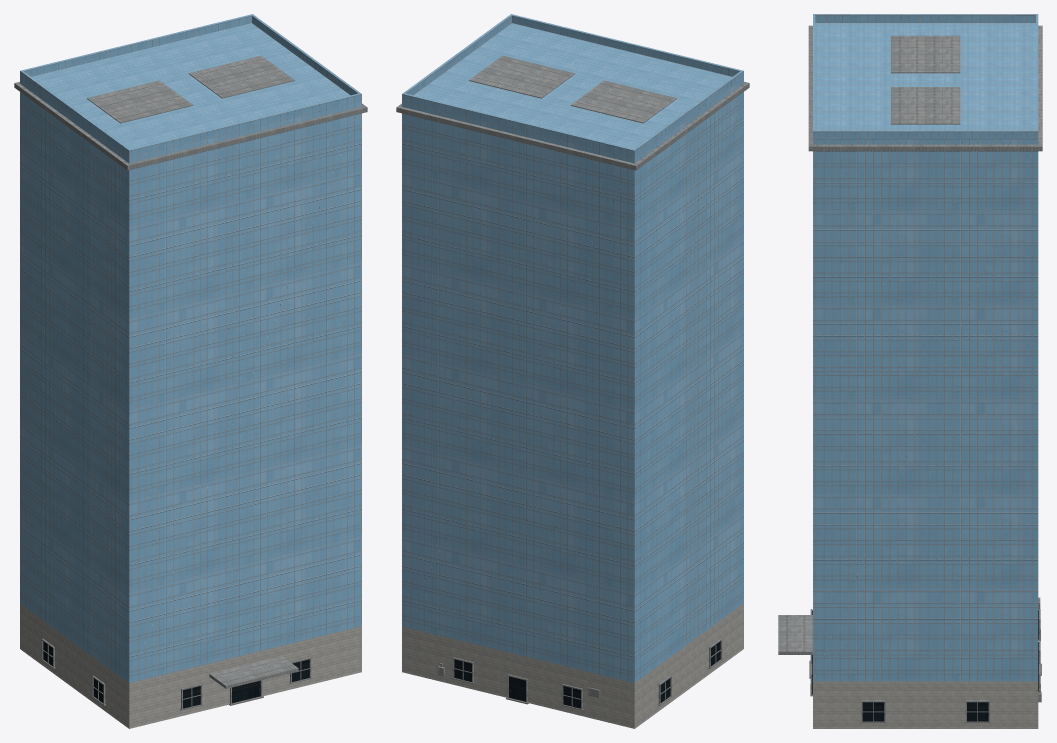
Rendered from cass-avenue-offices_lod0.gltf.
3 renders of one model, left to right at view 1: azimuth 30°, elevation 25°; view 2: azimuth 150°, elevation 25°; view 3: azimuth 270°, elevation 25°, orthographic. The views are drawn at different scales.
Parts seen in each view (by area): view 1: cass-avenue-offices_upper, cass-avenue-offices_base, cass-avenue-offices__cornice, cass-avenue-offices__solar_b, cass-avenue-offices__solar_a, cass-avenue-offices__parapet_front, cass-avenue-offices__parapet_back, cass-avenue-offices__canopy, cass-avenue-offices_fen_07-glass-curtain-blue_1_t, cass-avenue-offices__parapet_left, cass-avenue-offices__parapet_right, cass-avenue-offices_fen_14-steel-panel_0; view 2: cass-avenue-offices_upper, cass-avenue-offices_base, cass-avenue-offices__cornice, cass-avenue-offices__solar_b, cass-avenue-offices__solar_a, cass-avenue-offices__parapet_back, cass-avenue-offices__parapet_front, cass-avenue-offices_fen_07-glass-curtain-blue_1_t, cass-avenue-offices_fen_14-steel-panel_0, cass-avenue-offices__parapet_left, cass-avenue-offices__parapet_right; view 3: cass-avenue-offices_upper, cass-avenue-offices_base, cass-avenue-offices__cornice, cass-avenue-offices__solar_a, cass-avenue-offices__solar_b, cass-avenue-offices__parapet_right, cass-avenue-offices__parapet_left, cass-avenue-offices__canopy, cass-avenue-offices_fen_07-glass-curtain-blue_1_t, cass-avenue-offices_fen_14-steel-panel_0.
Boxes of the visible parts, left/top/right/bottom form: cass-avenue-offices_upper: left=20, top=23, right=361, bottom=683; cass-avenue-offices_base: left=20, top=603, right=361, bottom=728; cass-avenue-offices__cornice: left=14, top=81, right=367, bottom=170; cass-avenue-offices__solar_b: left=188, top=55, right=294, bottom=98; cass-avenue-offices__solar_a: left=87, top=80, right=193, bottom=123; cass-avenue-offices__parapet_front: left=128, top=93, right=361, bottom=158; cass-avenue-offices__parapet_back: left=20, top=14, right=253, bottom=78; cass-avenue-offices__canopy: left=209, top=656, right=298, bottom=688; cass-avenue-offices_fen_07-glass-curtain-blue_1_t: left=43, top=641, right=309, bottom=708; cass-avenue-offices__parapet_left: left=21, top=71, right=129, bottom=156; cass-avenue-offices__parapet_right: left=252, top=15, right=359, bottom=95; cass-avenue-offices_fen_14-steel-panel_0: left=41, top=638, right=312, bottom=710; cass-avenue-offices_upper: left=402, top=23, right=743, bottom=683; cass-avenue-offices_base: left=402, top=603, right=743, bottom=728; cass-avenue-offices__cornice: left=396, top=81, right=749, bottom=170; cass-avenue-offices__solar_b: left=469, top=55, right=575, bottom=98; cass-avenue-offices__solar_a: left=570, top=80, right=676, bottom=123; cass-avenue-offices__parapet_back: left=402, top=93, right=635, bottom=158; cass-avenue-offices__parapet_front: left=510, top=14, right=743, bottom=78; cass-avenue-offices_fen_07-glass-curtain-blue_1_t: left=454, top=641, right=720, bottom=708; cass-avenue-offices_fen_14-steel-panel_0: left=437, top=638, right=722, bottom=710; cass-avenue-offices__parapet_left: left=634, top=71, right=742, bottom=156; cass-avenue-offices__parapet_right: left=404, top=15, right=511, bottom=95; cass-avenue-offices_upper: left=813, top=23, right=1038, bottom=681; cass-avenue-offices_base: left=813, top=681, right=1038, bottom=728; cass-avenue-offices__cornice: left=808, top=25, right=1042, bottom=151; cass-avenue-offices__solar_a: left=891, top=35, right=960, bottom=73; cass-avenue-offices__solar_b: left=891, top=87, right=960, bottom=124; cass-avenue-offices__parapet_right: left=815, top=130, right=1035, bottom=139; cass-avenue-offices__parapet_left: left=815, top=14, right=1035, bottom=22; cass-avenue-offices__canopy: left=778, top=615, right=812, bottom=654; cass-avenue-offices_fen_07-glass-curtain-blue_1_t: left=812, top=610, right=1038, bottom=721; cass-avenue-offices_fen_14-steel-panel_0: left=810, top=597, right=1041, bottom=722.
Bounding box in the file's own units: 33 × 76 × 30.5.
